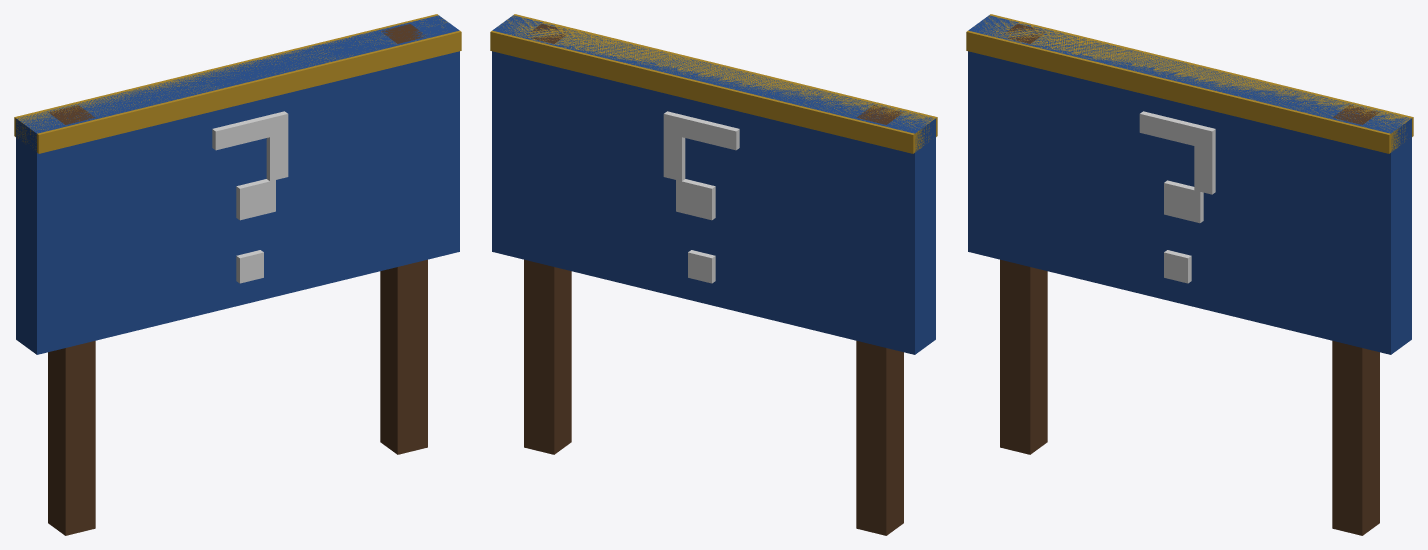
File: ntu-explorer-sign.glb
The picture shows the model from 3 angles, left to right: view 1: azimuth 30°, elevation 25°; view 2: azimuth 150°, elevation 25°; view 3: azimuth 330°, elevation 25°; orthographic projection.
Parts seen in each view (by area): view 1: box-prop; view 2: box-prop; view 3: box-prop.
Boxes of the visible parts, x1,y1,x2,y2 form: box-prop: [14, 14, 461, 535]; box-prop: [490, 14, 937, 535]; box-prop: [966, 14, 1413, 535].
Size of the model in its own units: 1.4 by 1.3 by 0.16.
